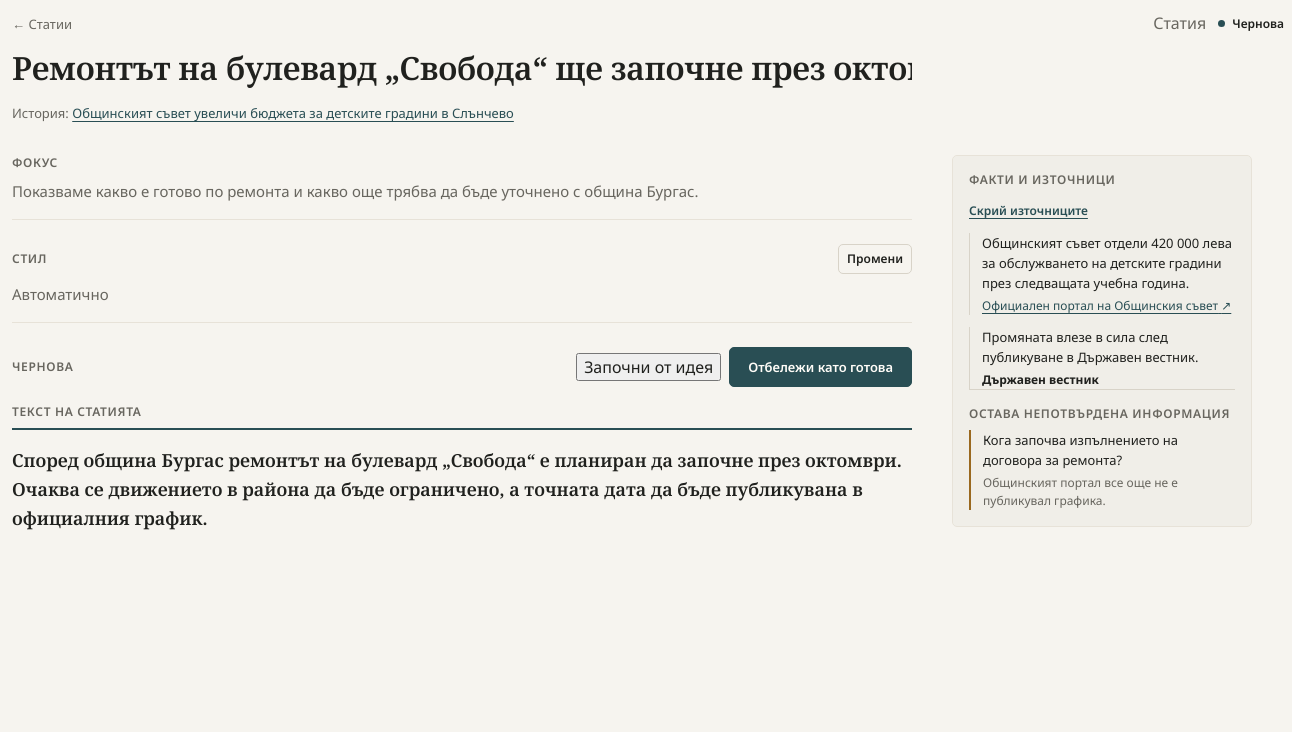
Test: V1.2-G3 §36 — the Draft is the centre of the screen › keeps the title editable in the header and autosaves through the same writer
Replace the text in the field named "Заглавие" with "Ремонтът на булевард „Свобода“ започва през октомври": point(462, 70) [12, 46, 912, 95]
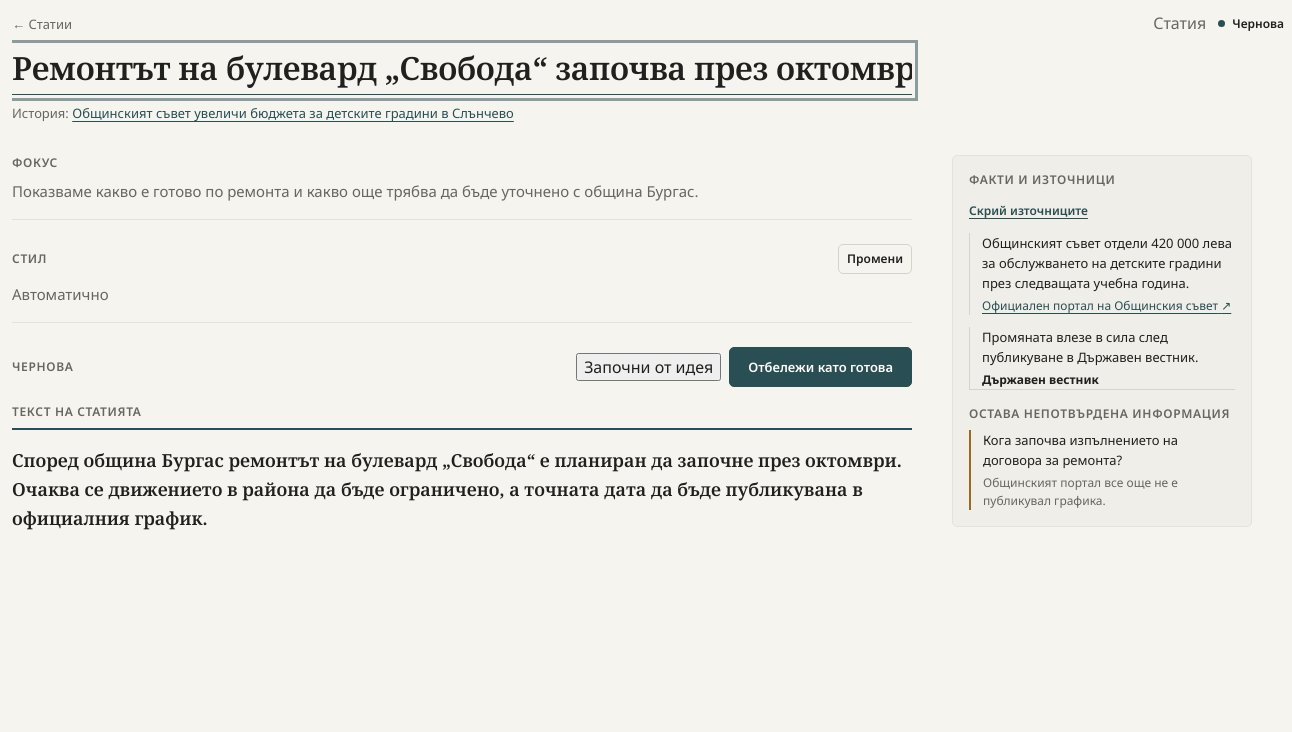
Press Tab
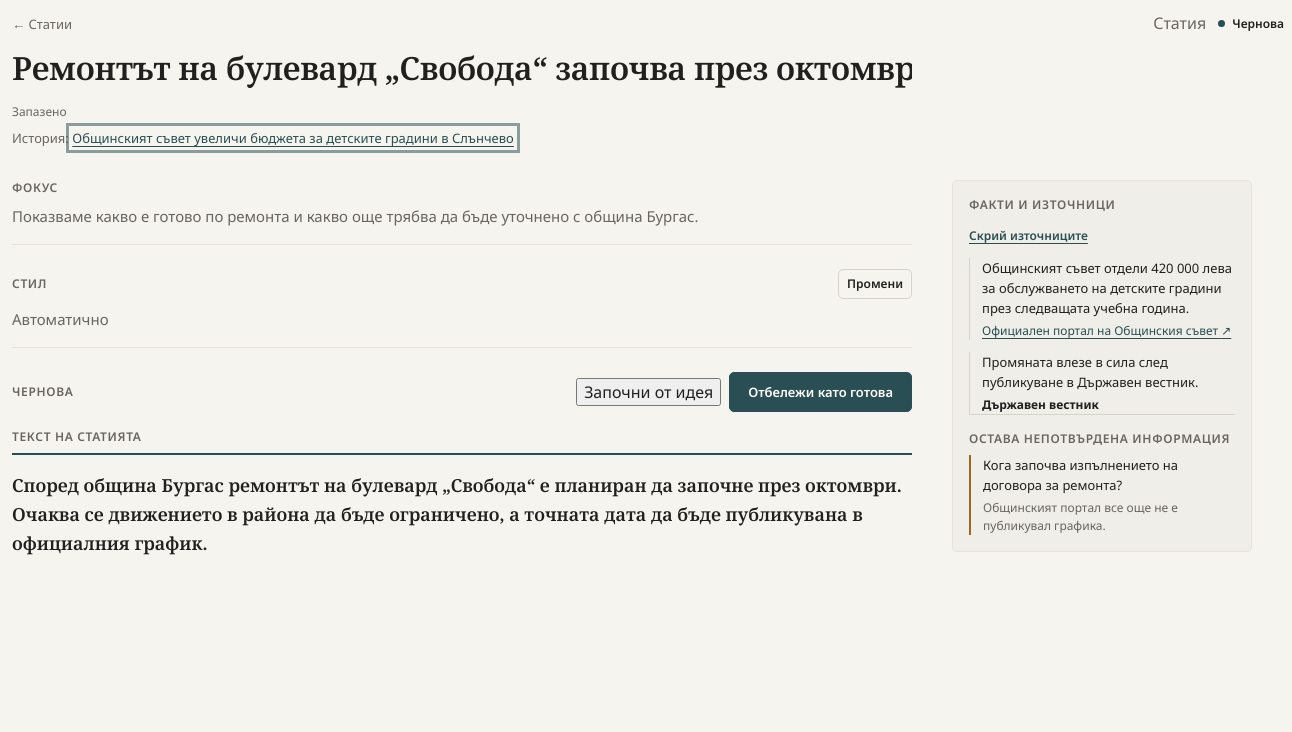
Expected: the text "Запазено" is shown, [12, 103, 66, 120]
